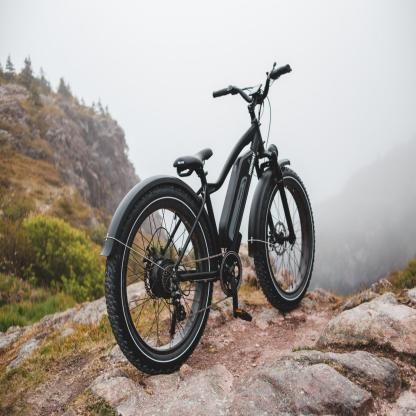Bike: (92, 46, 321, 368)
